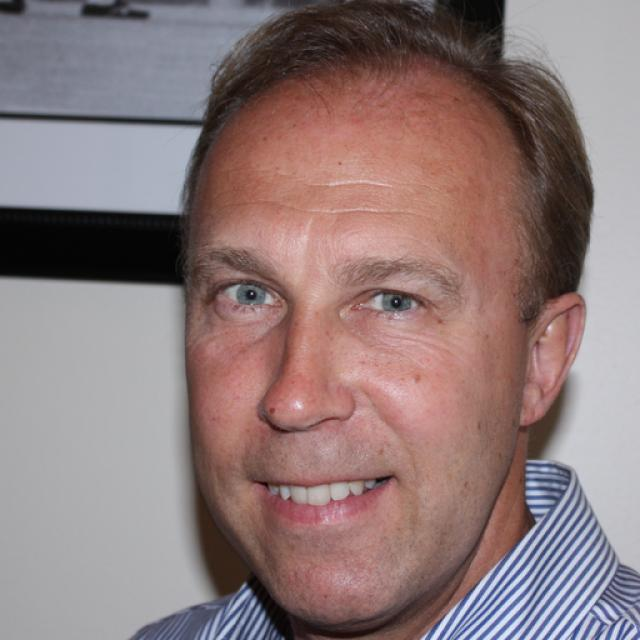Wrinkle: (216, 190, 437, 220), (297, 170, 418, 193)
